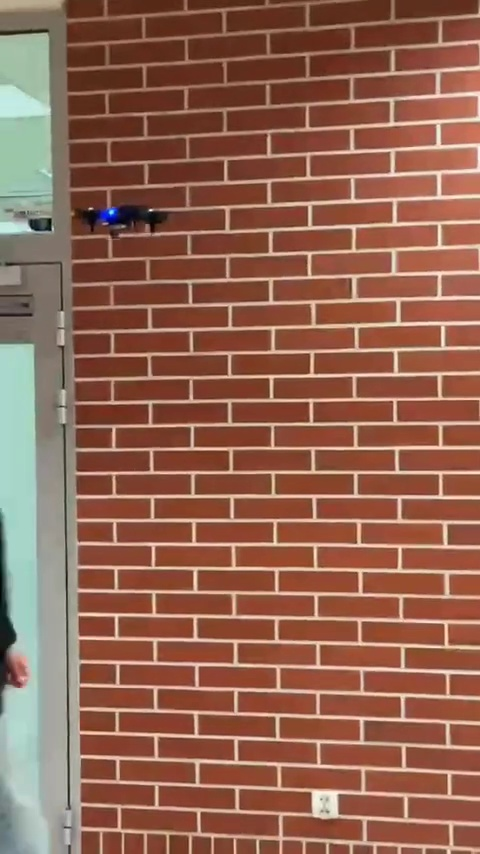drone: (72, 198, 165, 228)
